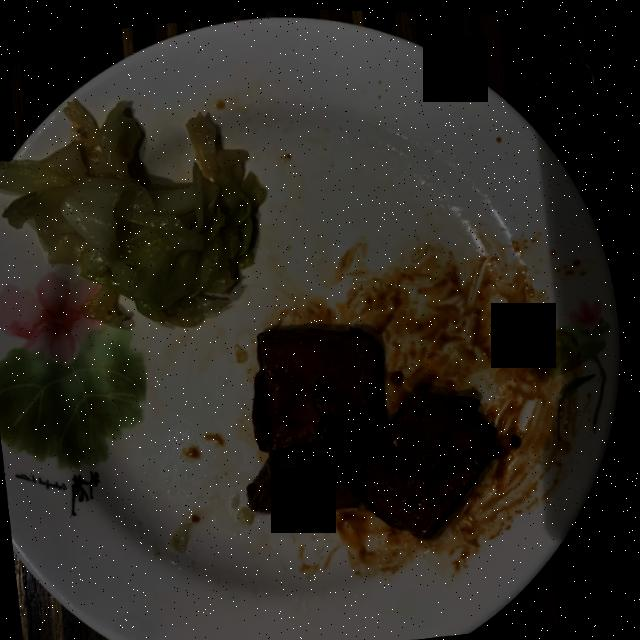cabbage: (0, 102, 267, 325)
coin: (537, 50, 595, 110)
creamy tofu: (252, 327, 501, 535)
